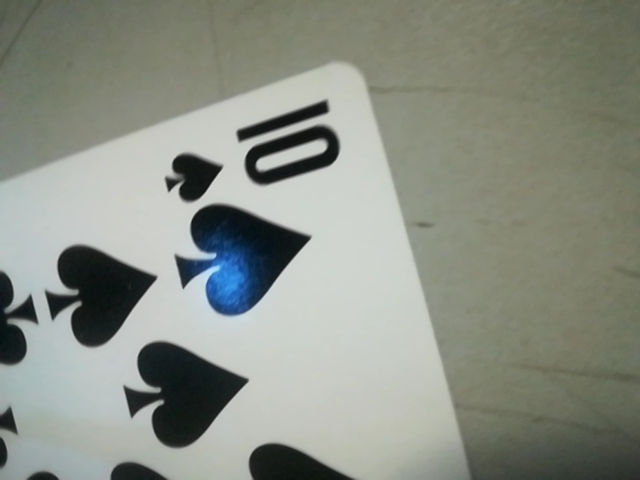ht 10: (161, 97, 363, 208)
